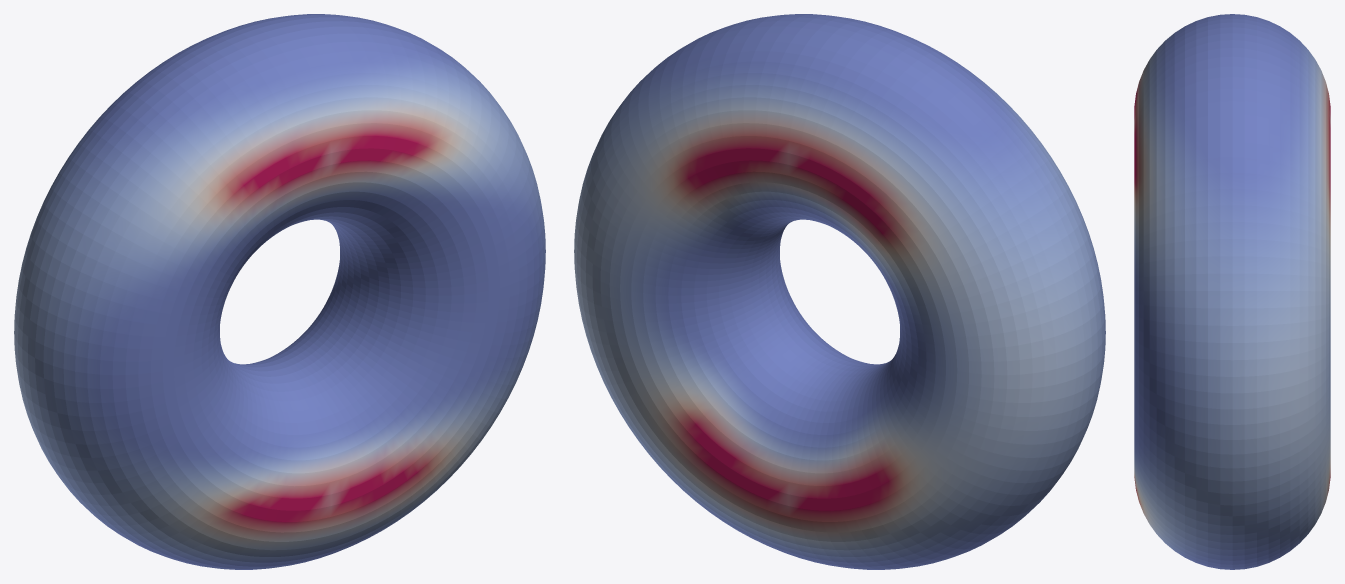
3 views of the same model, side by side, from view 1: azimuth 30°, elevation 25°; view 2: azimuth 150°, elevation 25°; view 3: azimuth 270°, elevation 25° (orthographic). The views are drawn at different scales.
Visible parts, largest first — view 1: world; view 2: world; view 3: world.
Part boxes in pixels (bbox=[...]): world: bbox=[14, 14, 545, 569]; world: bbox=[574, 14, 1105, 569]; world: bbox=[1134, 14, 1330, 569].
Bounding box in the file's own units: 15.47 × 15.47 × 5.46.
